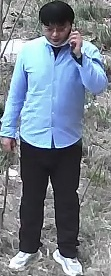phone: (57, 23, 109, 95)
